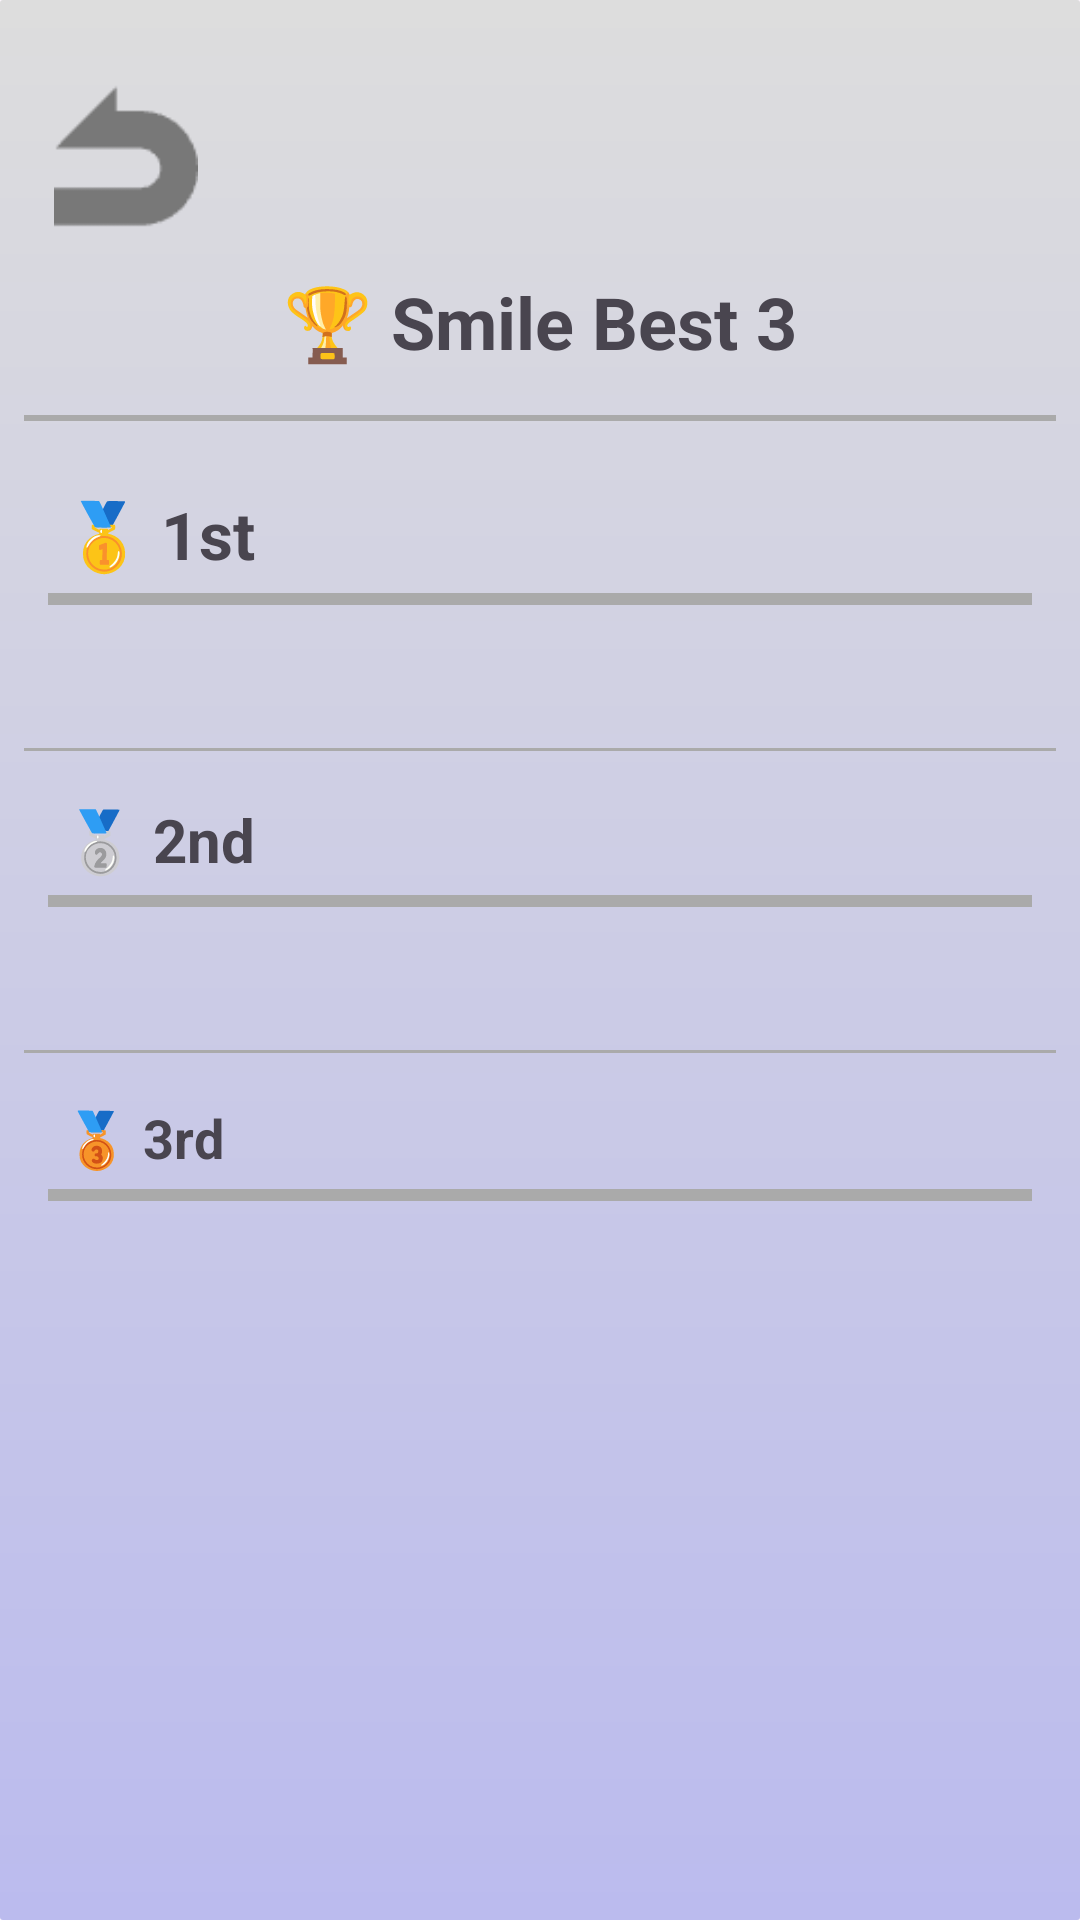

Locate icon controls on the screen. Image size 1080px×1920px, boxes as detection(x1, y1, x2, y2).
Back Button: detection(54, 87, 198, 226)
